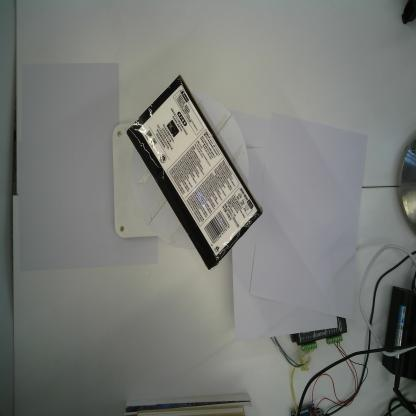Tissue: (125, 72, 264, 270)
